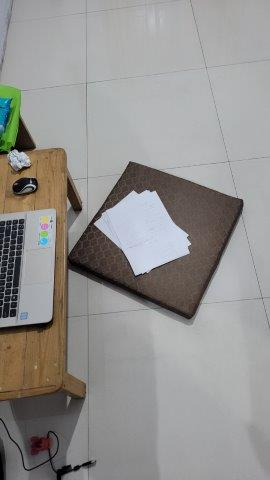kertas: (90, 189, 194, 275)
